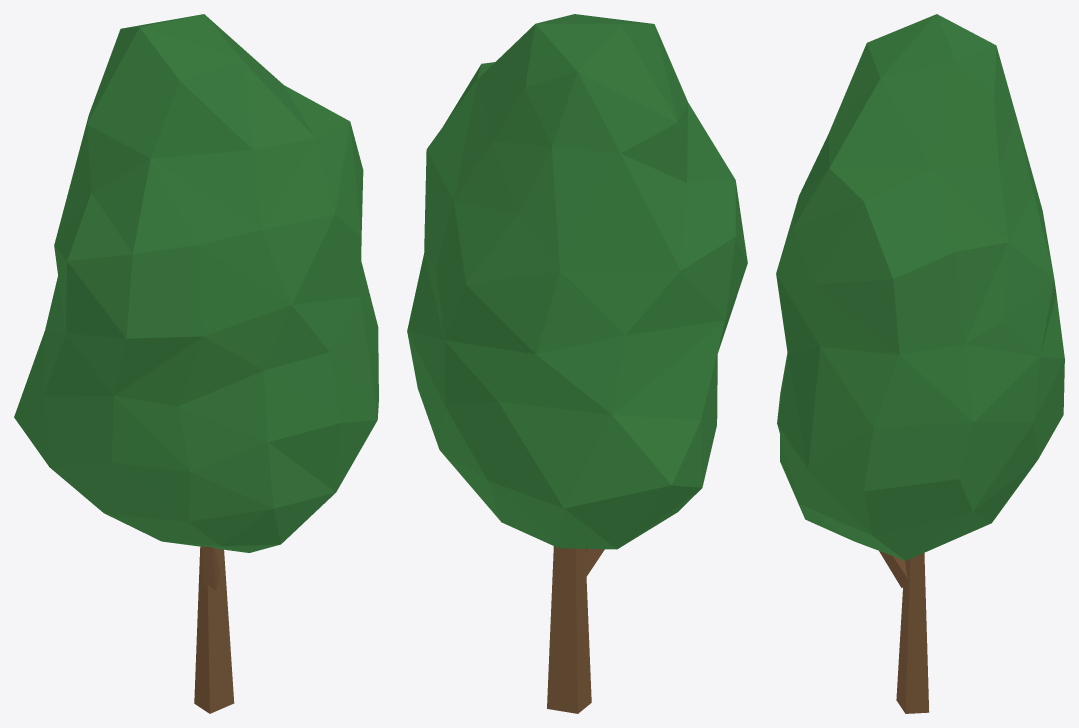
Rendered from tree-beech.glb.
The picture shows the model from 3 angles, left to right: view 1: azimuth 30°, elevation 25°; view 2: azimuth 150°, elevation 25°; view 3: azimuth 270°, elevation 25°; orthographic projection. The views are drawn at different scales.
Parts seen in each view (by area): view 1: tree-beech; view 2: tree-beech; view 3: tree-beech.
Part boxes in pixels (x1,y1,x2,y2): tree-beech: [14, 14, 378, 713]; tree-beech: [407, 14, 747, 713]; tree-beech: [776, 14, 1064, 713].
Size of the model in its own units: 2.77 by 6.08 by 2.4.
1 material, 1 textured.
